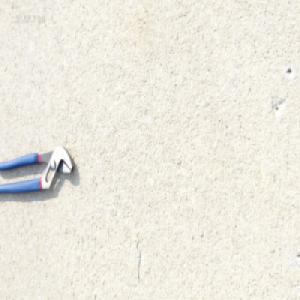Pliers: (0, 141, 73, 195)
